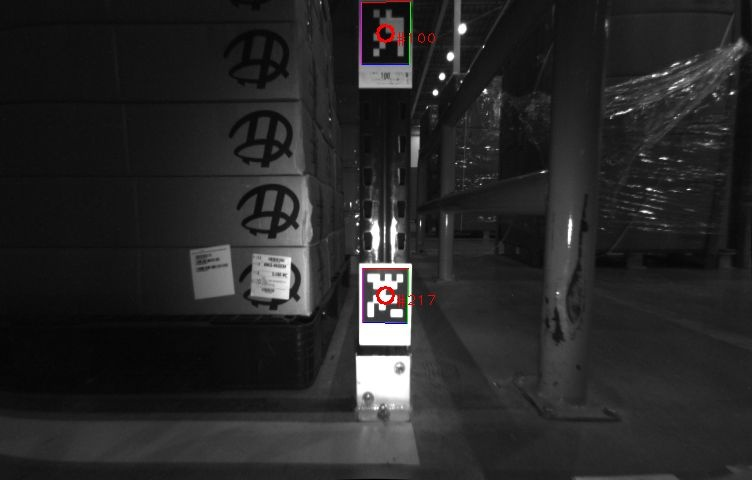True Barcode: (250, 253, 291, 301)
